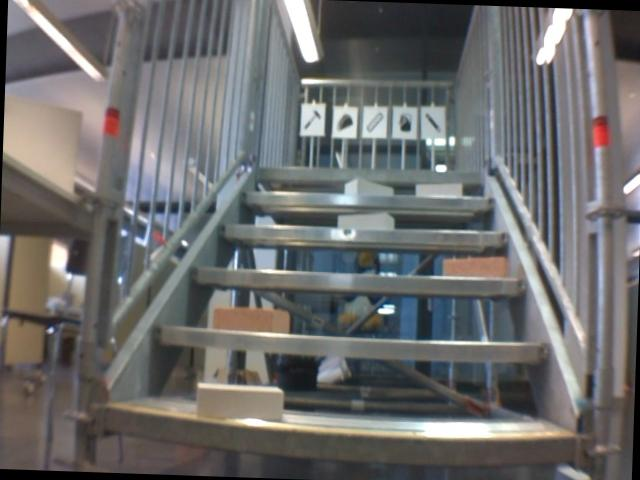brick: (195, 382, 282, 422), (212, 307, 289, 332), (442, 254, 510, 279), (337, 210, 393, 230), (344, 177, 392, 194), (416, 183, 461, 196)
bucket: (395, 111, 413, 134)
edge: (105, 406, 572, 467), (154, 326, 548, 364), (189, 267, 528, 296), (218, 222, 511, 246), (241, 189, 496, 211), (255, 164, 486, 185)
hammer: (301, 106, 322, 133)
pencil: (422, 110, 443, 135)
ruler: (363, 109, 385, 136)
steps: (99, 156, 586, 473)
taco: (334, 110, 355, 134)
